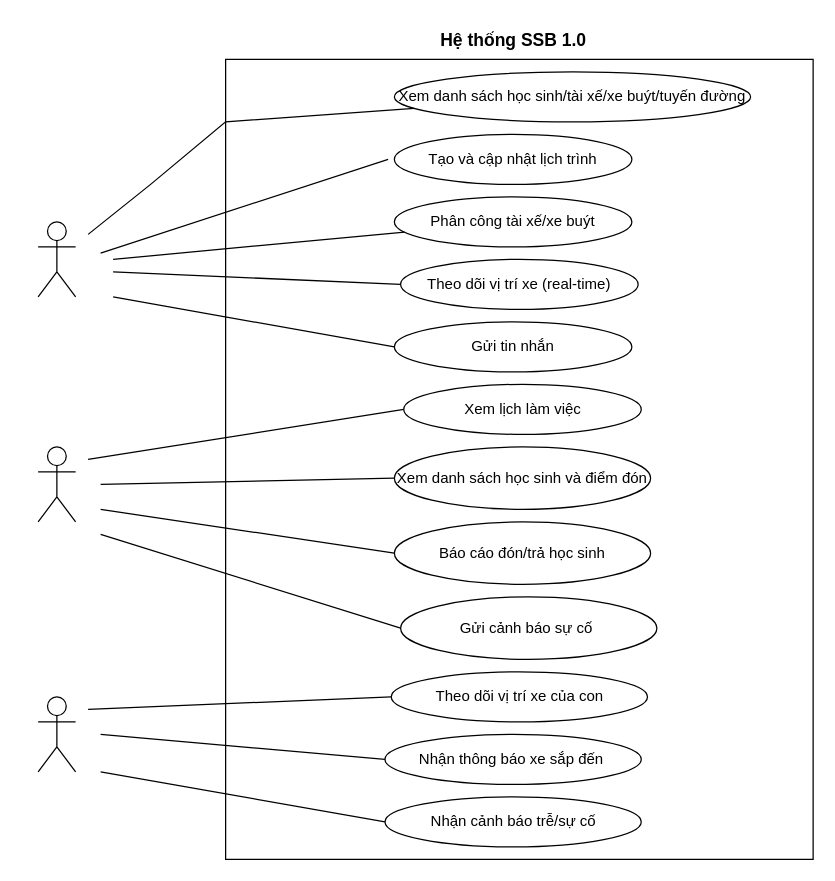
Some shapes in this 835 by 881 pixel diagram are drawn without their labels. Each missing label, with the box of its shape:
Phụ huynh: (37, 696, 76, 772)
Quản lý: (37, 221, 76, 297)
Tài xế: (37, 446, 76, 522)
